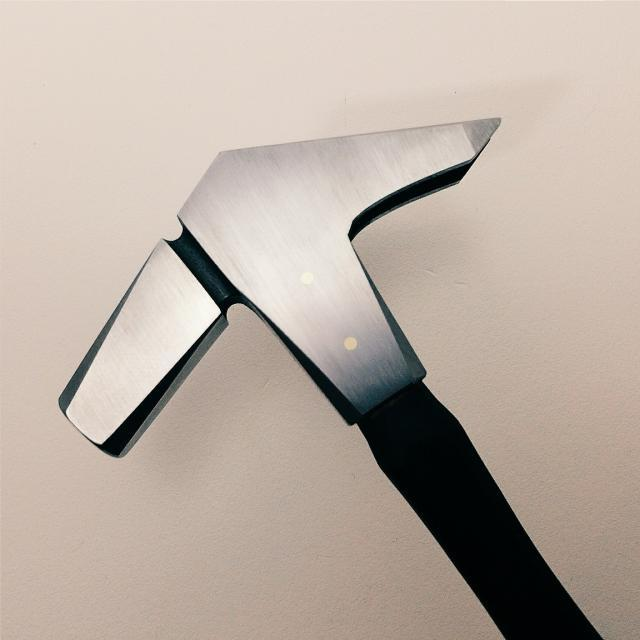hammer: (51, 110, 611, 640)
